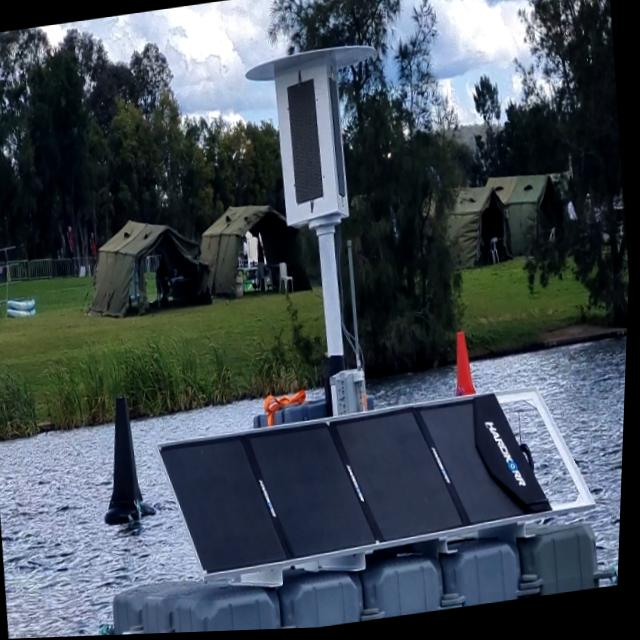led: (274, 67, 339, 215)
